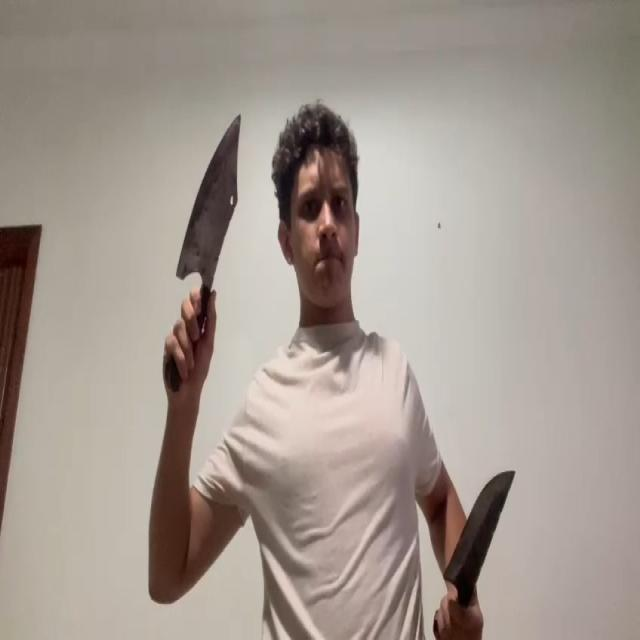knife: (175, 113, 243, 281), (440, 468, 517, 590)
